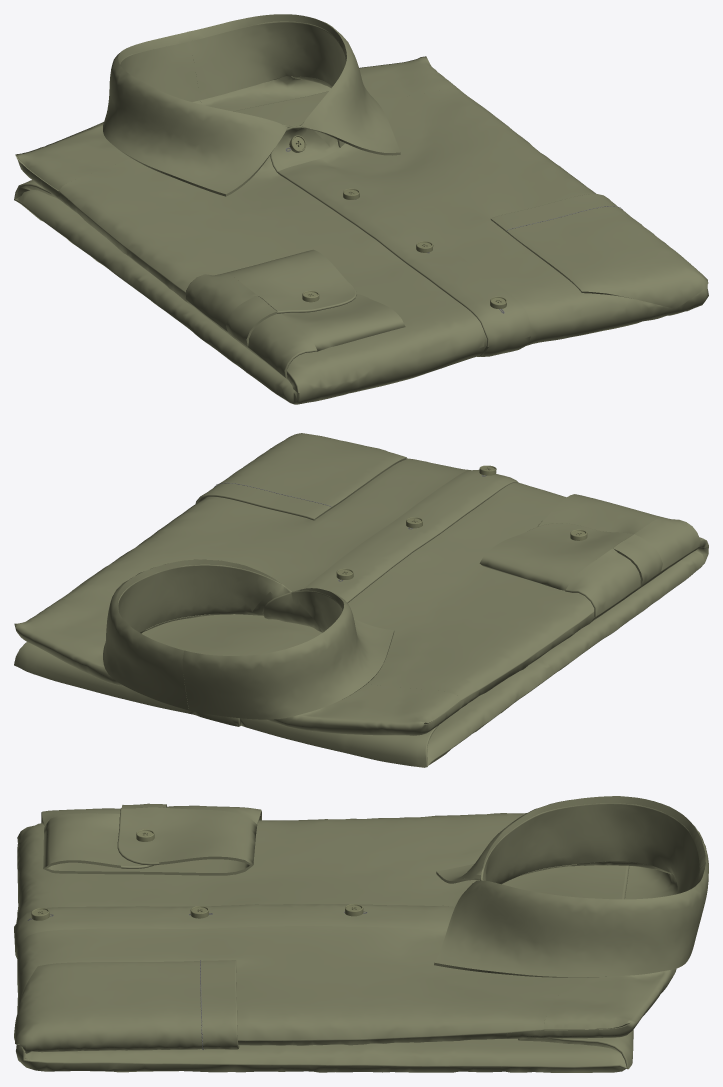
The model's file is prop_folded_shirt.glb.
3 views of the same model, one above another, from view 1: azimuth 30°, elevation 25°; view 2: azimuth 150°, elevation 25°; view 3: azimuth 270°, elevation 25° (orthographic). The views are drawn at different scales.
Parts seen in each view (by area): view 1: Cloth_1; view 2: Cloth_1; view 3: Cloth_1.
Part boxes in pixels (left/top/right/bottom): Cloth_1: left=14, top=14, right=708, bottom=404; Cloth_1: left=14, top=433, right=708, bottom=767; Cloth_1: left=14, top=796, right=708, bottom=1072.
Size of the model in its own units: 0.2825 by 0.0729 by 0.3776.
47 materials, 8 textured.
